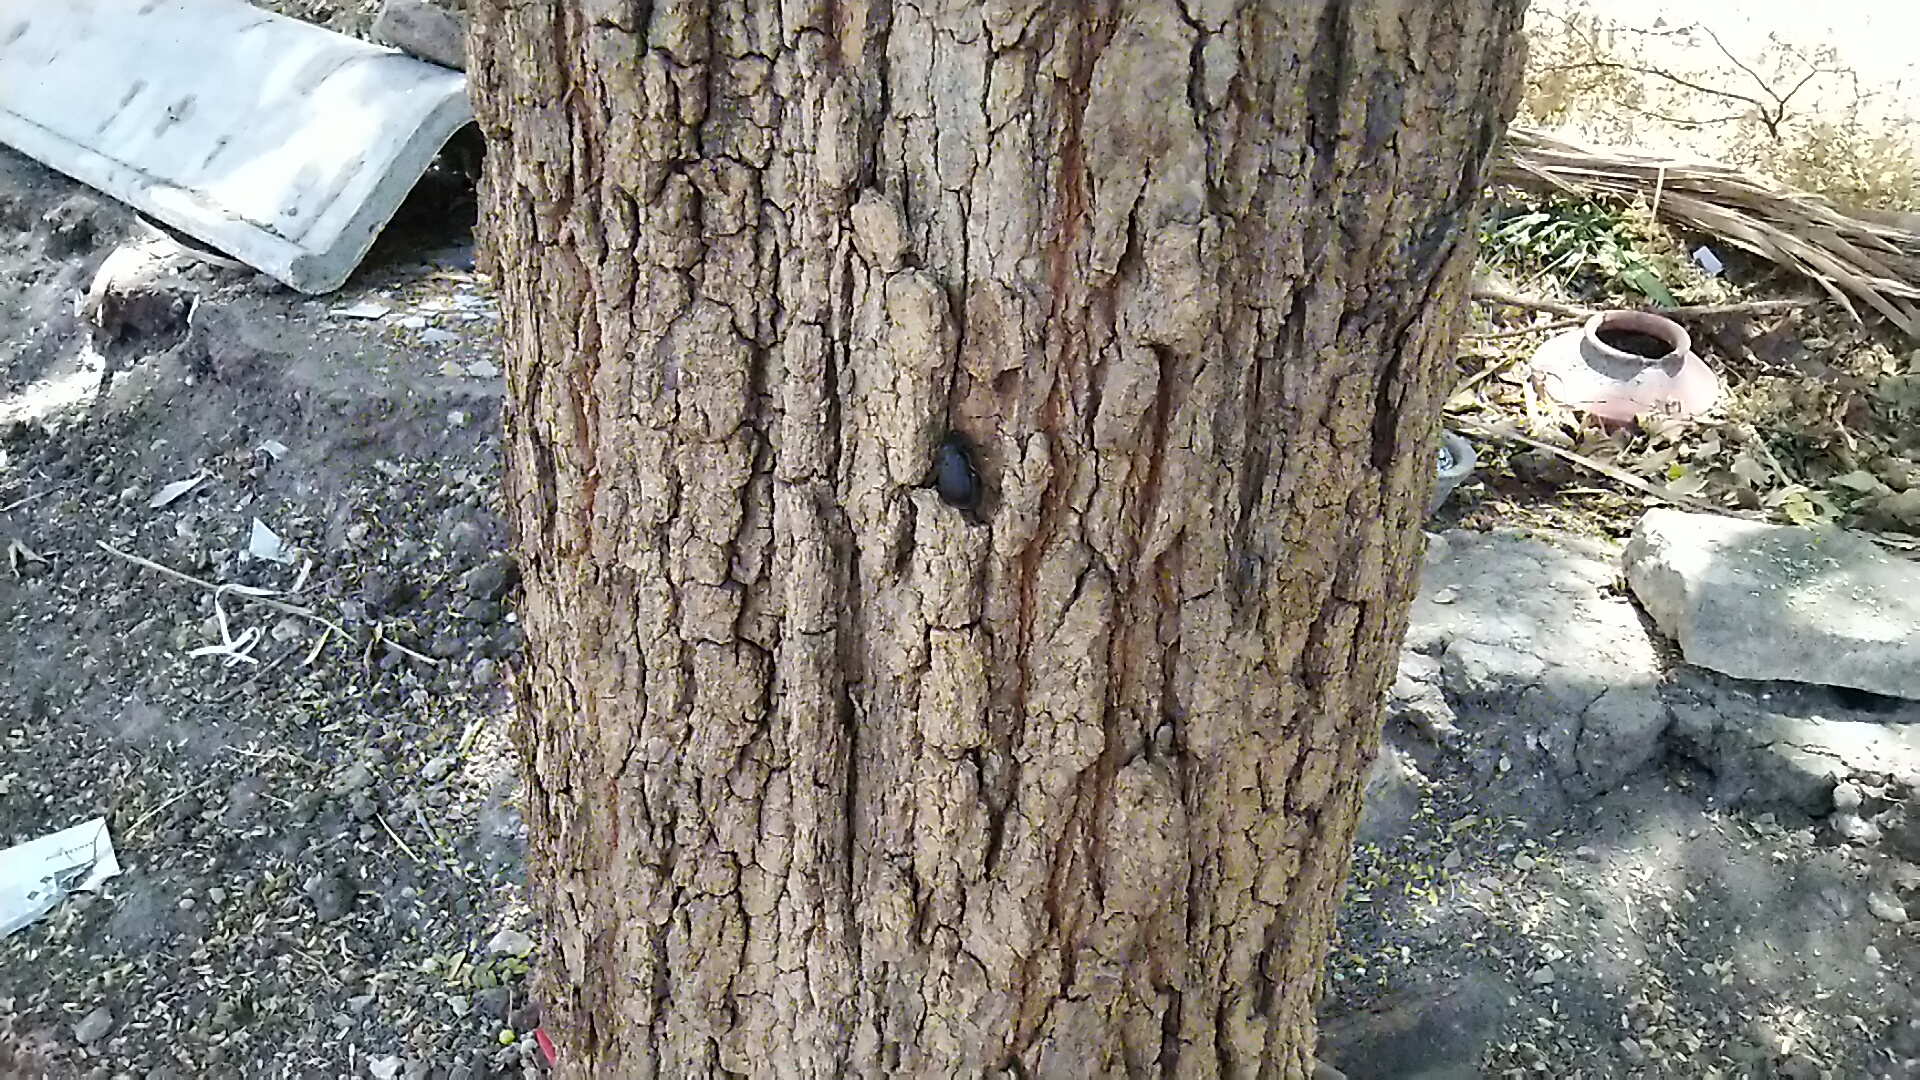INS-A: (920, 422, 1011, 522)
